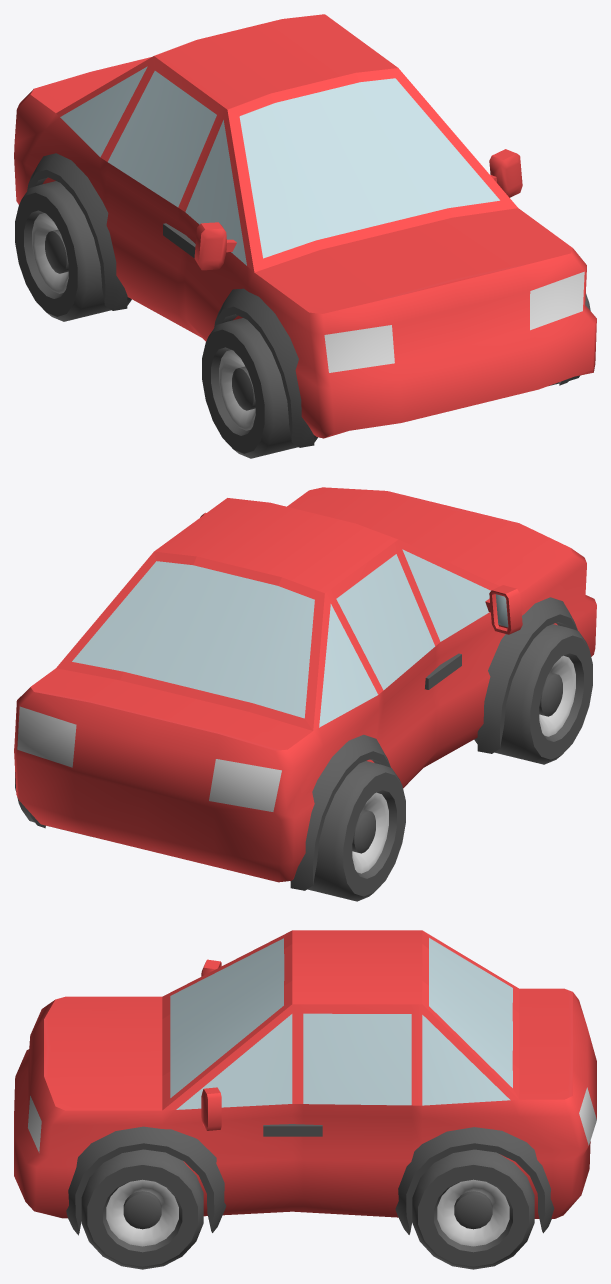
File: Car1.FBX
3 renders of one model, top to bottom at view 1: azimuth 30°, elevation 25°; view 2: azimuth 150°, elevation 25°; view 3: azimuth 270°, elevation 25°, orthographic. The views are drawn at different scales.
Visible parts, largest first — view 1: Box001; view 2: Box001; view 3: Box001.
Part boxes in pixels (x1=…): Box001: x1=14, y1=14, x2=596, y2=458; Box001: x1=14, y1=487, x2=596, y2=901; Box001: x1=14, y1=930, x2=596, y2=1269.
Bounding box in the file's own units: 12.11 × 9.51 × 21.03.
